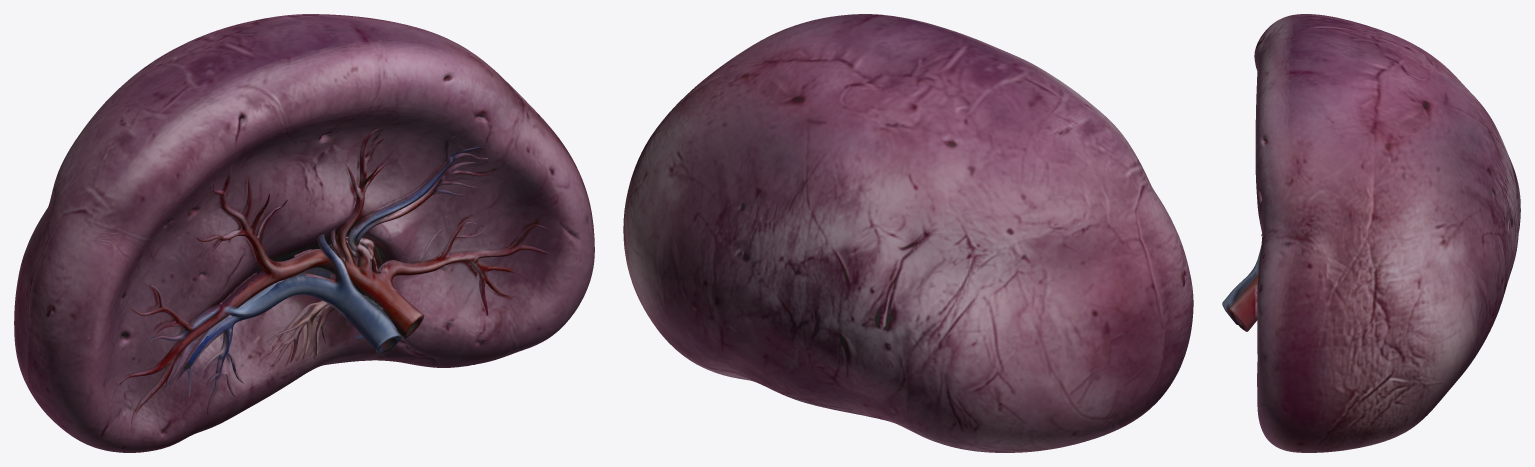
The model's file is spleen.glb.
3 renders of one model, left to right at view 1: azimuth 30°, elevation 25°; view 2: azimuth 150°, elevation 25°; view 3: azimuth 270°, elevation 25°, orthographic. The views are drawn at different scales.
Parts seen in each view (by area): view 1: geometry_0; view 2: geometry_0; view 3: geometry_0.
Boxes of the visible parts, left/top/right/bottom form: geometry_0: left=14, top=14, right=594, bottom=452; geometry_0: left=623, top=14, right=1193, bottom=452; geometry_0: left=1222, top=14, right=1520, bottom=452.
Size of the model in its own units: 1.1 by 0.7083 by 0.5843.
1 material, 1 textured.
